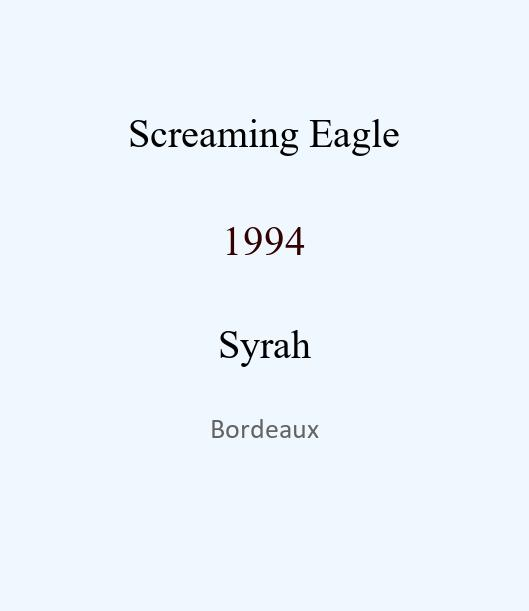brand: (128, 111, 400, 148)
region: (210, 417, 319, 436)
variety: (218, 322, 311, 359)
vintage: (222, 218, 306, 246)
